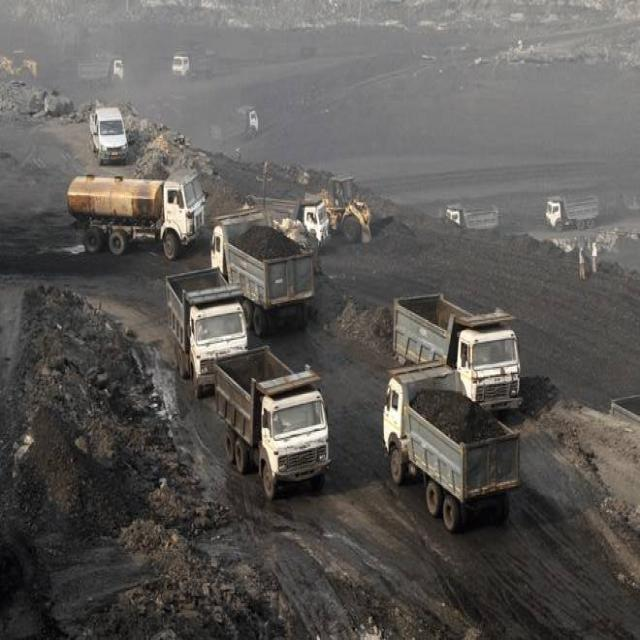buldozerpayloadergrader: (0, 41, 41, 93)
dump_truck: (382, 357, 520, 538), (212, 341, 329, 504), (381, 276, 532, 398), (209, 196, 317, 329), (61, 164, 202, 260), (151, 268, 244, 396), (442, 197, 502, 245), (207, 107, 267, 152), (544, 191, 604, 232), (71, 55, 132, 89), (166, 49, 218, 81)
light_vehicle: (80, 101, 135, 162)
